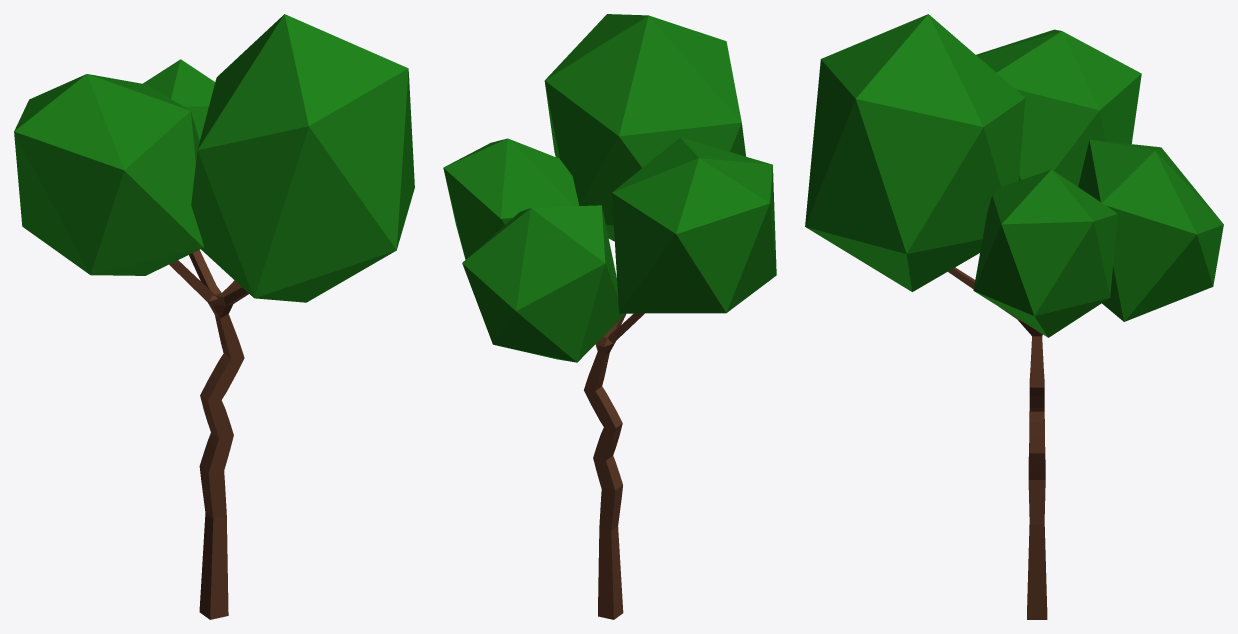
Rendered from arvore5.fbx.
3 views of the same model, side by side, from view 1: azimuth 30°, elevation 25°; view 2: azimuth 150°, elevation 25°; view 3: azimuth 270°, elevation 25° (orthographic). The views are drawn at different scales.
Parts seen in each view (by area): view 1: Icosphere.013; view 2: Icosphere.013; view 3: Icosphere.013.
Boxes of the visible parts, bbox=[...] form: Icosphere.013: bbox=[14, 14, 414, 619]; Icosphere.013: bbox=[443, 14, 776, 619]; Icosphere.013: bbox=[805, 14, 1223, 619].
Bounding box in the file's own units: 5.77 × 9.54 × 5.96.
